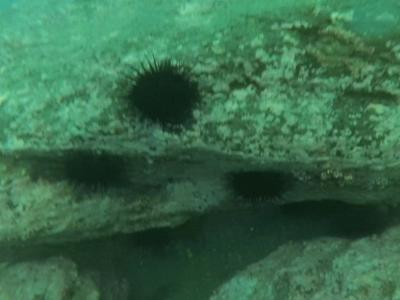urchin: (123, 53, 204, 127), (64, 149, 127, 194), (226, 169, 288, 202)
